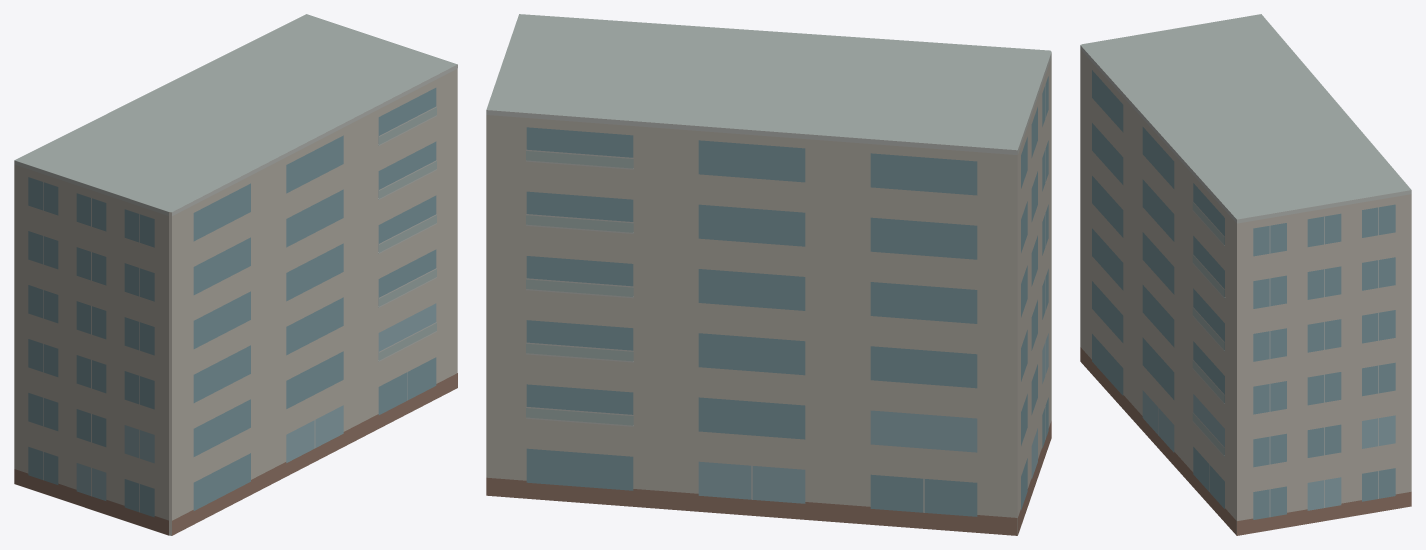
File: survey-upis-32863202.glb
3 renders of one model, left to right at view 1: azimuth 30°, elevation 25°; view 2: azimuth 150°, elevation 25°; view 3: azimuth 270°, elevation 25°, orthographic. The views are drawn at different scales.
Visible parts, largest first — view 1: survey-upis-32863202.tmp; view 2: survey-upis-32863202.tmp; view 3: survey-upis-32863202.tmp.
Boxes of the visible parts, bbox=[...] form: survey-upis-32863202.tmp: bbox=[14, 14, 457, 535]; survey-upis-32863202.tmp: bbox=[486, 14, 1051, 535]; survey-upis-32863202.tmp: bbox=[1080, 14, 1411, 535].
Bounding box in the file's own units: 26.77 × 19.2 × 18.24.
